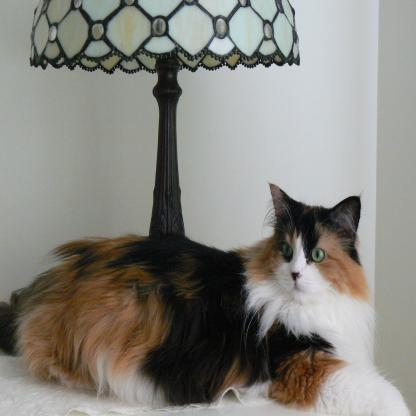cat: (10, 176, 416, 416)
